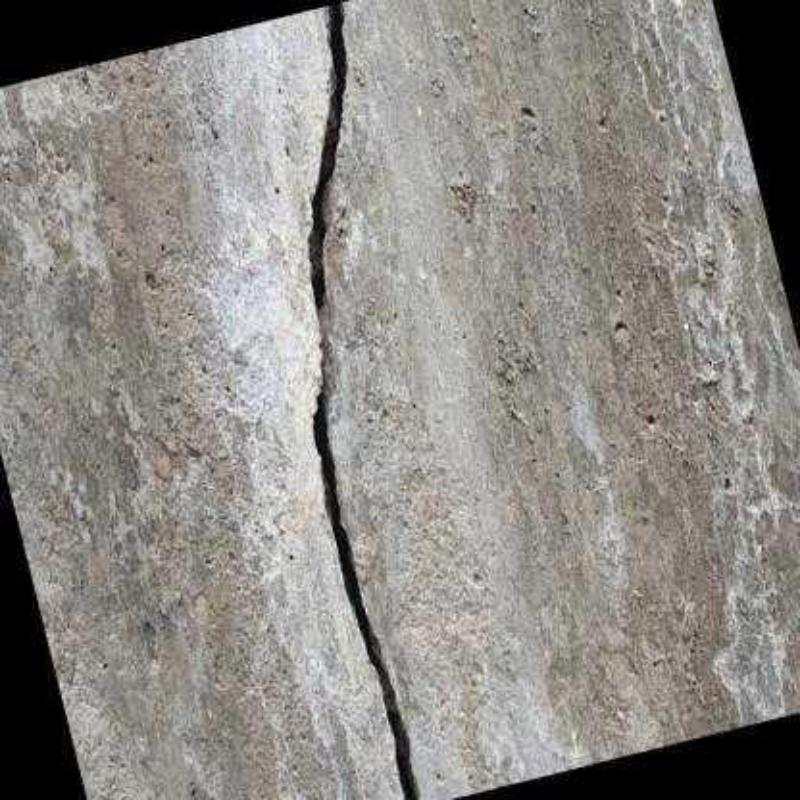crack: (308, 2, 419, 800)
